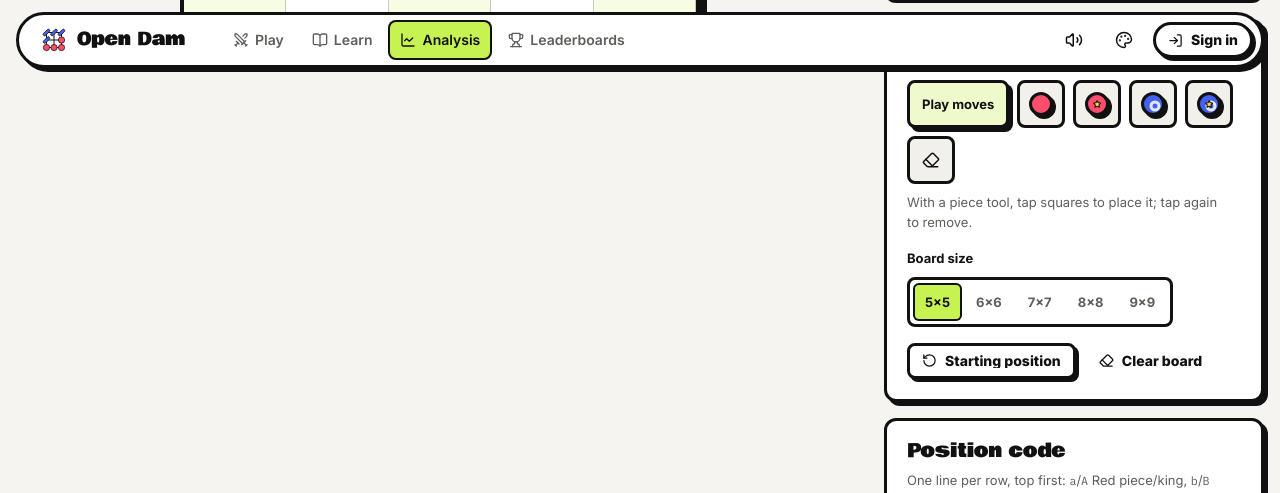
Test: analysis › moves played are listed and can be stepped back through
This screenshot has width=1280, height=493.
(page scrolled)
Click the button "Starting position".
click(991, 361)  # box x1=907 y1=343 x2=1076 y2=379
(page scrolled)
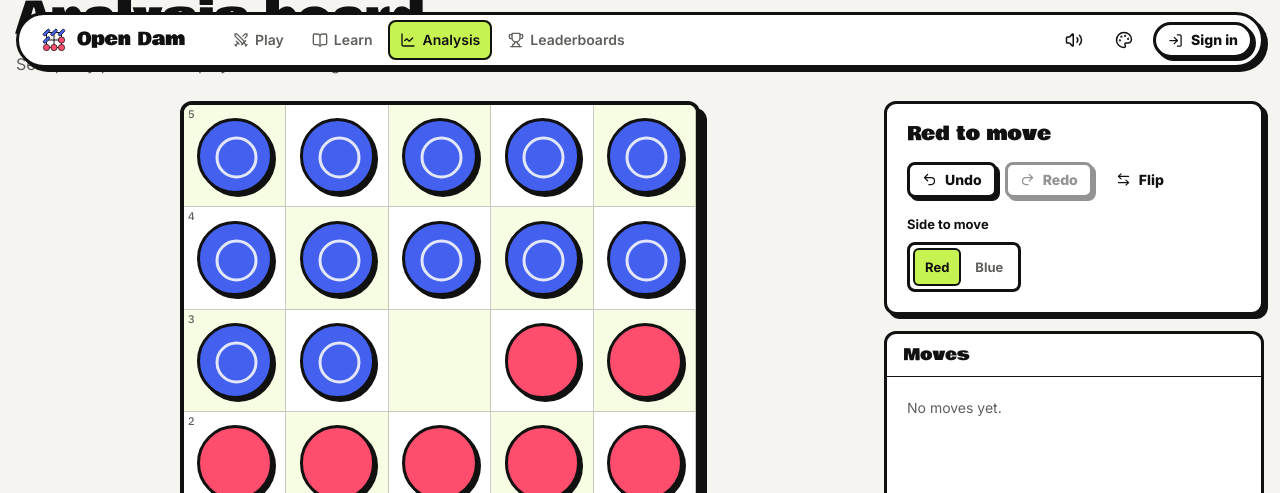
Press the mouse on the cell named "d3, Red piece" at (542, 361), box x1=491 y1=310 x2=594 y2=412
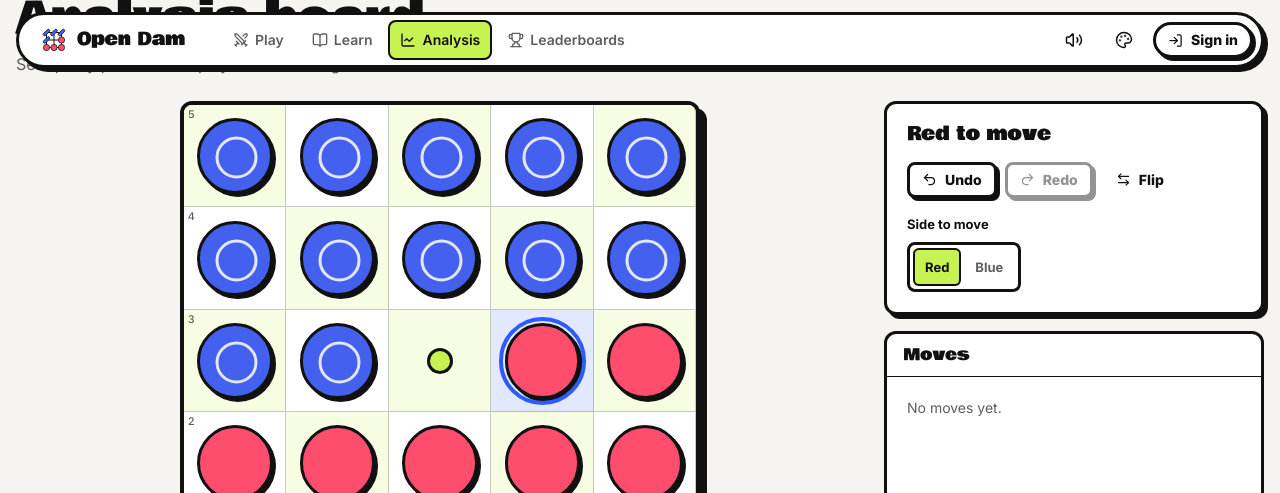
Click the cell named "c3, empty, you can move here".
click(440, 361)  # box x1=389 y1=310 x2=491 y2=412
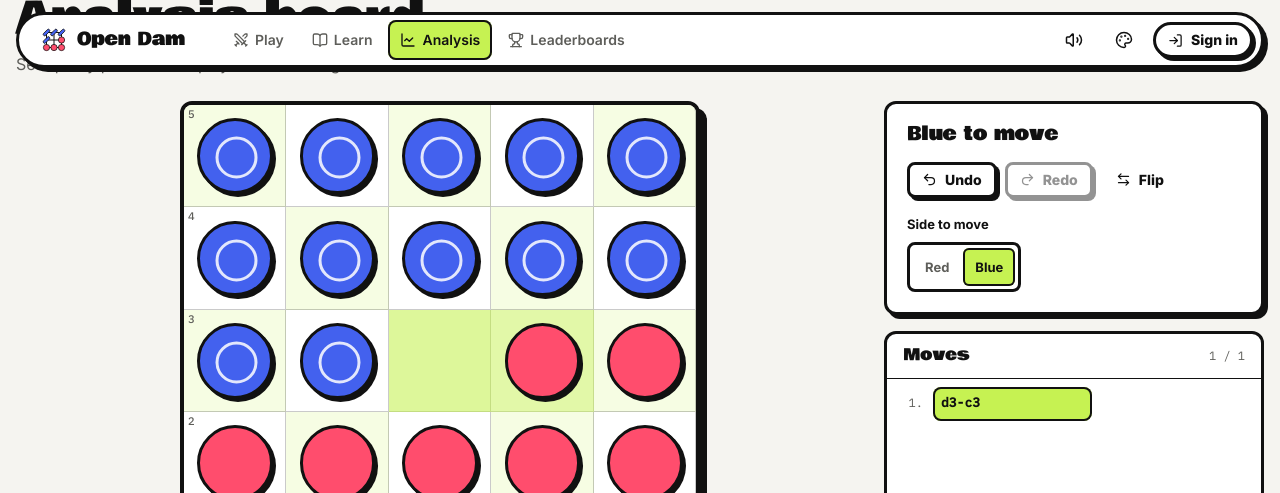
Press the mouse on the cell named "b3, Blue piece" at (338, 361), box x1=286 y1=310 x2=389 y2=412
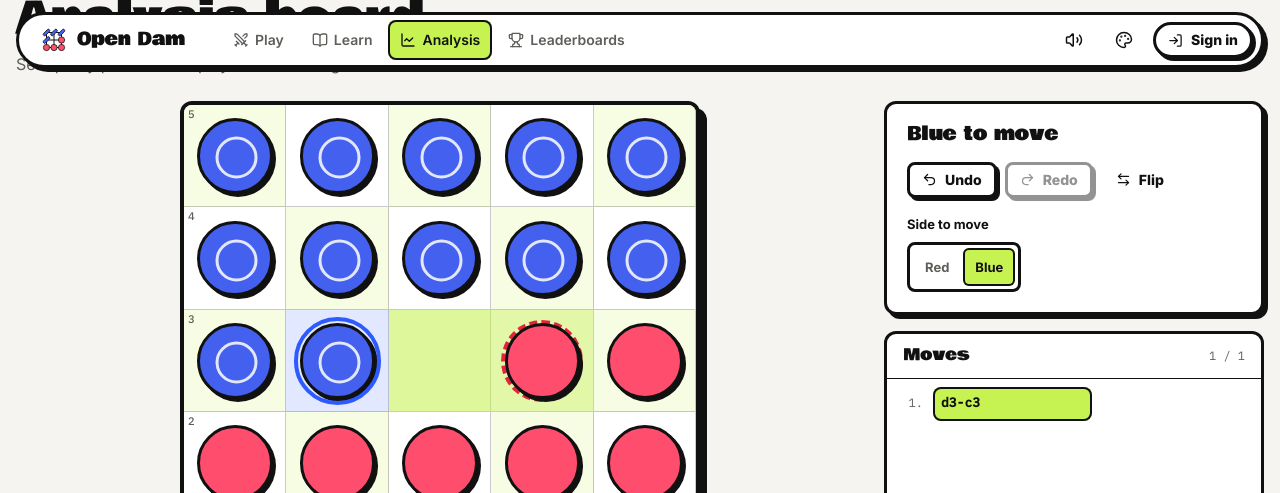
Click the cell named "d3, empty, capture lands here, last move".
click(542, 361)  # box x1=491 y1=310 x2=594 y2=412
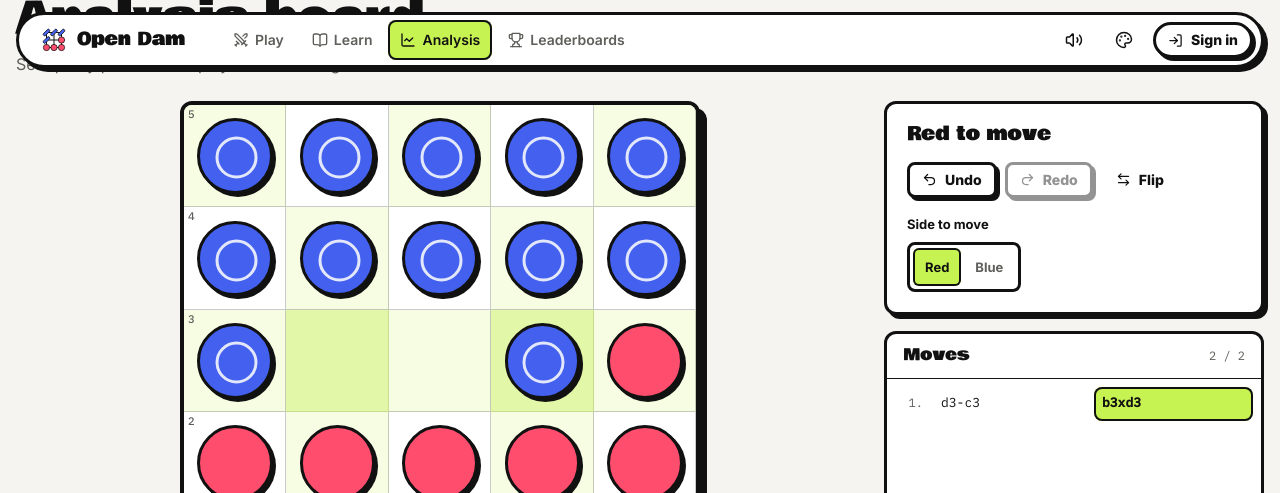
expect the button named "d3 to c3" is shown: met
expect the button with aria-label "b3 jumps to d3" is shown: met, box x1=1094 y1=387 x2=1253 y2=421
Click the button named "d3 to c3".
click(1012, 404)  # box x1=933 y1=387 x2=1092 y2=421
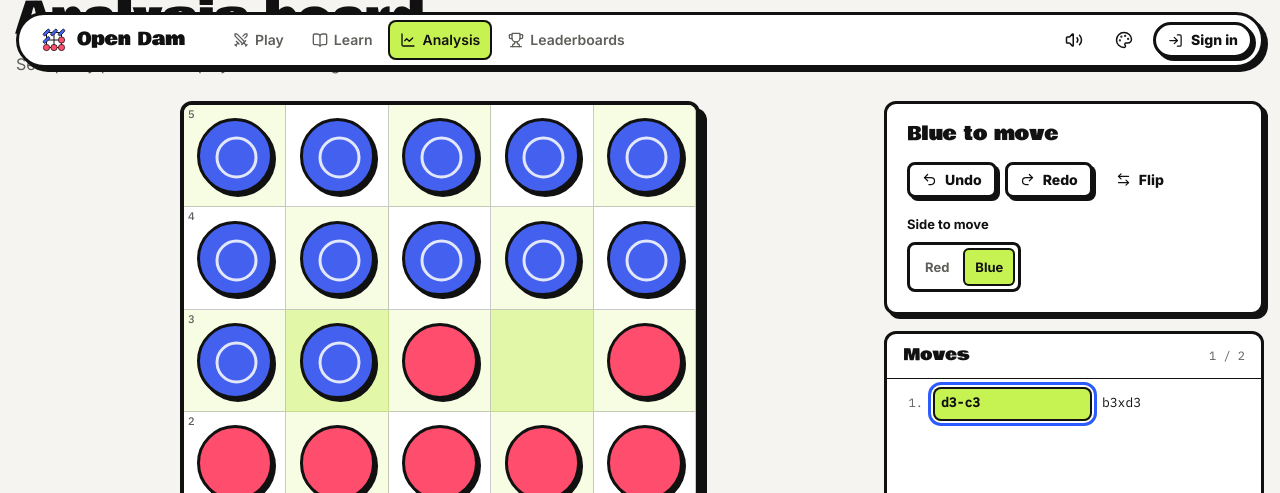
expect the text "1 / 2" is shown: met, box x1=1209 y1=347 x2=1245 y2=366
